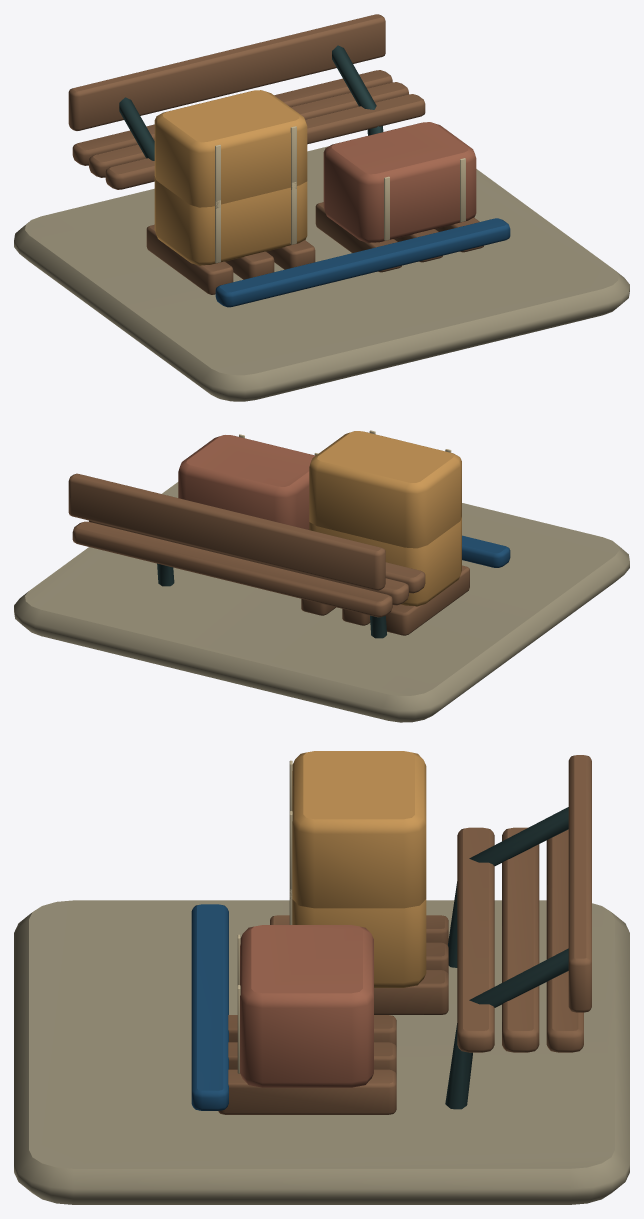
File: metro_logistics_1.glb
3 renders of one model, top to bottom at view 1: azimuth 30°, elevation 25°; view 2: azimuth 150°, elevation 25°; view 3: azimuth 270°, elevation 25°, orthographic. The views are drawn at different scales.
Visible parts, largest first — view 1: Logistics1; view 2: Logistics1; view 3: Logistics1.
Boxes of the visible parts, x1=… form: Logistics1: x1=14, y1=14, x2=629, y2=401; Logistics1: x1=14, y1=430, x2=629, y2=722; Logistics1: x1=14, y1=751, x2=629, y2=1204.
Size of the model in its own units: 2.68 by 1.04 by 2.48.
